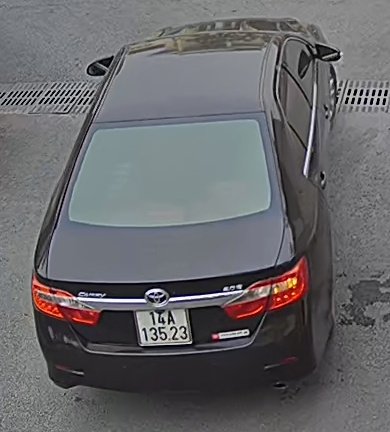vehicle plate: (129, 304, 195, 345)
